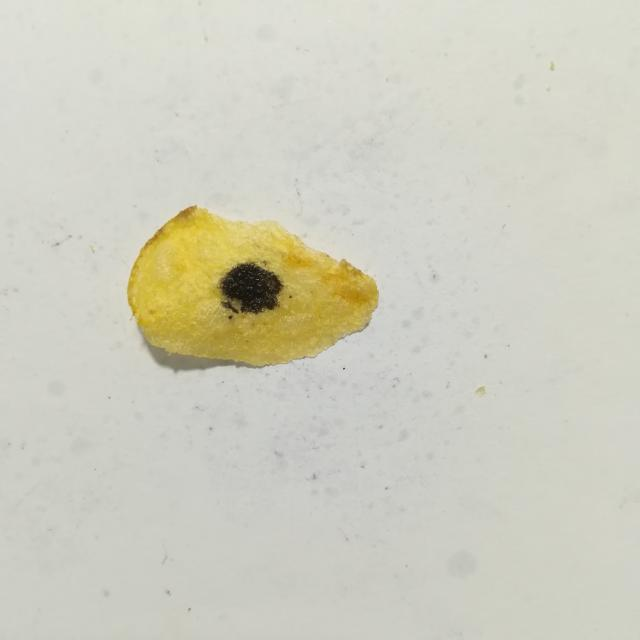chip: (127, 206, 378, 366)
damaged: (220, 263, 283, 313), (221, 301, 238, 313), (228, 315, 233, 320), (289, 295, 292, 298)
